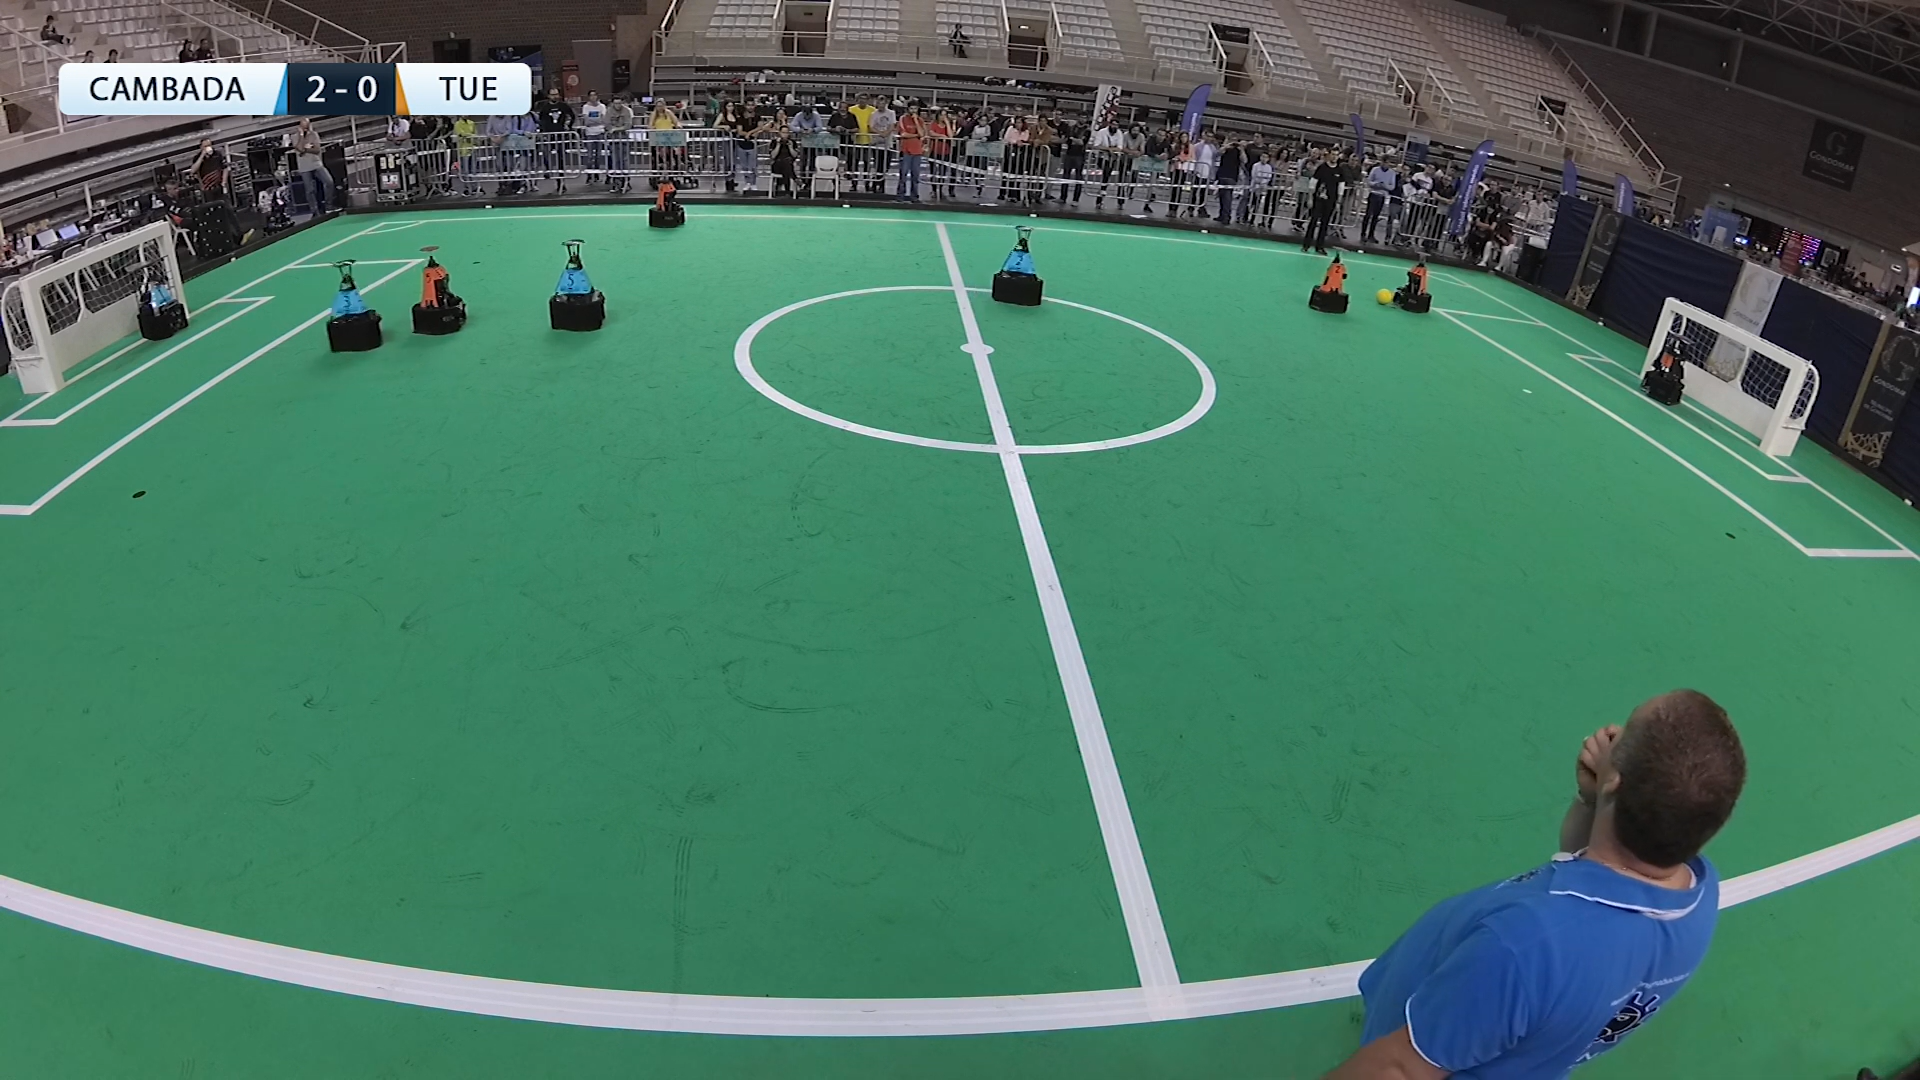BALL: (1375, 286, 1393, 309)
BLUE2: (1009, 240, 1035, 281)
BLUE3: (324, 273, 375, 338)
BLUE5: (549, 258, 597, 309)
B_Goalie: (135, 269, 189, 338)
RED2: (1317, 260, 1350, 286)
RED3: (1406, 265, 1431, 294)
RED4: (657, 181, 675, 210)
RED5: (410, 265, 459, 314)
R_Goalie: (1650, 338, 1683, 404)
Referee: (1335, 678, 1775, 1080)
